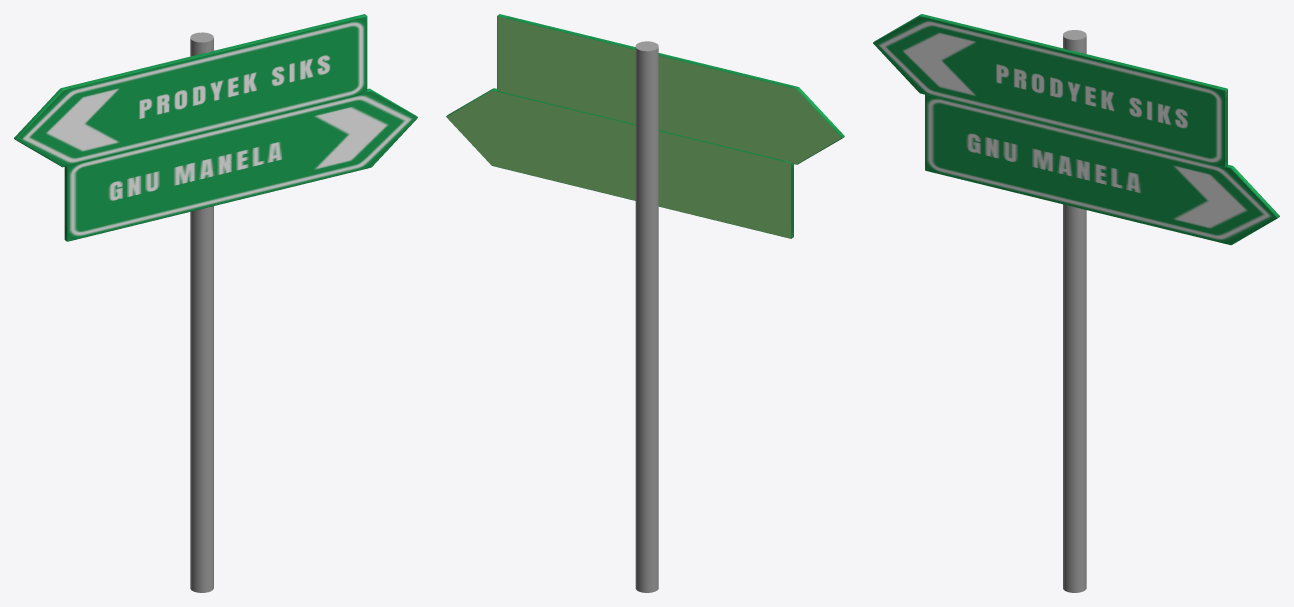
File: INTERSECTION(3).fbx
3 views of the same model, side by side, from view 1: azimuth 30°, elevation 25°; view 2: azimuth 150°, elevation 25°; view 3: azimuth 330°, elevation 25° (orthographic). The views are drawn at different scales.
Visible parts, largest first — view 1: polySurface7; view 2: polySurface7; view 3: polySurface7.
Part boxes in pixels (bbox=[...]): polySurface7: bbox=[14, 14, 417, 592]; polySurface7: bbox=[446, 14, 844, 592]; polySurface7: bbox=[873, 14, 1279, 592].
Size of the model in its own units: 6.21 by 8.11 by 0.3657.
4 materials, 2 textured.
